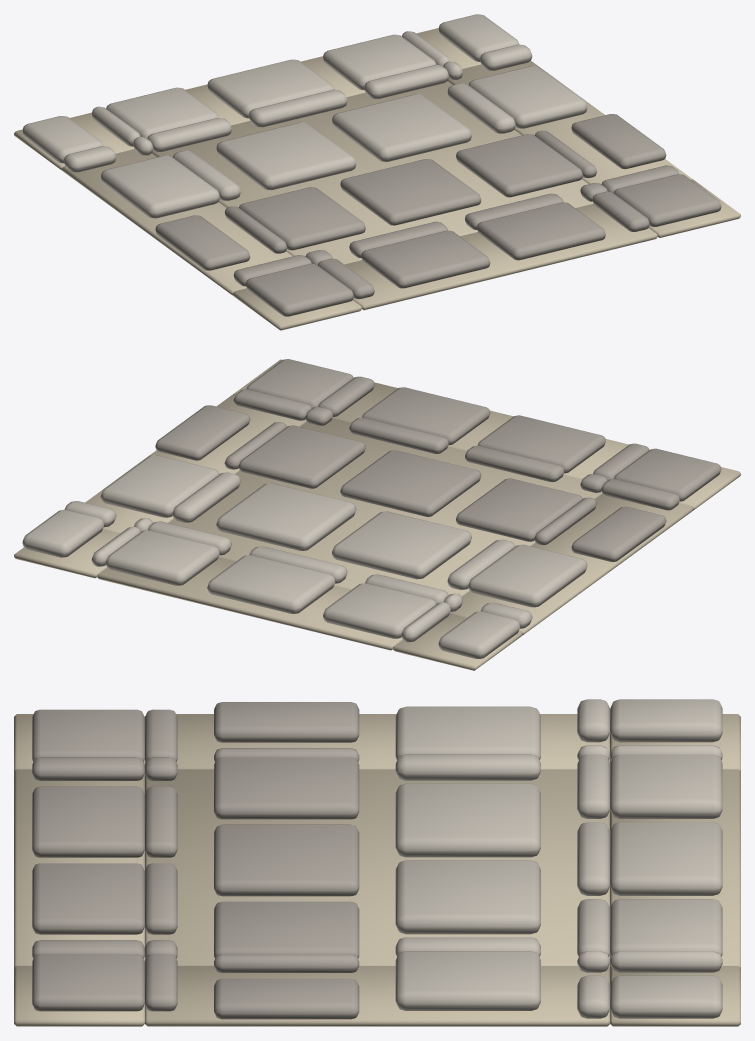
File: path-stone.glb
The picture shows the model from 3 angles, top to bottom: view 1: azimuth 30°, elevation 25°; view 2: azimuth 150°, elevation 25°; view 3: azimuth 270°, elevation 25°; orthographic projection. The views are drawn at different scales.
Visible parts, largest first — view 1: core, link_s, link_w, link_e, link_n, link_sw, link_se, link_nw, link_ne; view 2: core, link_n, link_w, link_e, link_s, link_nw, link_ne, link_sw, link_se; view 3: core, link_e, link_n, link_s, link_w, link_ne, link_se, link_nw, link_sw.
Part boxes in pixels (bbox=[...]): core: bbox=[147, 65, 607, 264]; link_s: bbox=[318, 191, 657, 310]; link_w: bbox=[62, 137, 311, 295]; link_e: bbox=[443, 44, 692, 192]; link_n: bbox=[106, 34, 436, 138]; link_sw: bbox=[233, 263, 361, 330]; link_se: bbox=[613, 174, 740, 237]; link_nw: bbox=[14, 106, 140, 170]; link_ne: bbox=[402, 14, 519, 68]; core: bbox=[148, 407, 607, 603]; link_n: bbox=[97, 530, 436, 650]; link_w: bbox=[443, 479, 692, 635]; link_e: bbox=[64, 389, 311, 533]; link_s: bbox=[318, 376, 649, 480]; link_nw: bbox=[393, 602, 521, 670]; link_ne: bbox=[14, 509, 140, 578]; link_sw: bbox=[614, 448, 740, 510]; link_se: bbox=[233, 359, 354, 407]; core: bbox=[145, 754, 609, 967]; link_e: bbox=[145, 951, 609, 1026]; link_n: bbox=[610, 754, 740, 968]; link_s: bbox=[14, 757, 144, 967]; link_w: bbox=[145, 699, 609, 769]; link_ne: bbox=[610, 951, 740, 1026]; link_se: bbox=[14, 954, 144, 1026]; link_nw: bbox=[610, 699, 740, 771]; link_sw: bbox=[14, 709, 144, 771].
Size of the model in its own units: 1 by 0.0387 by 1.
